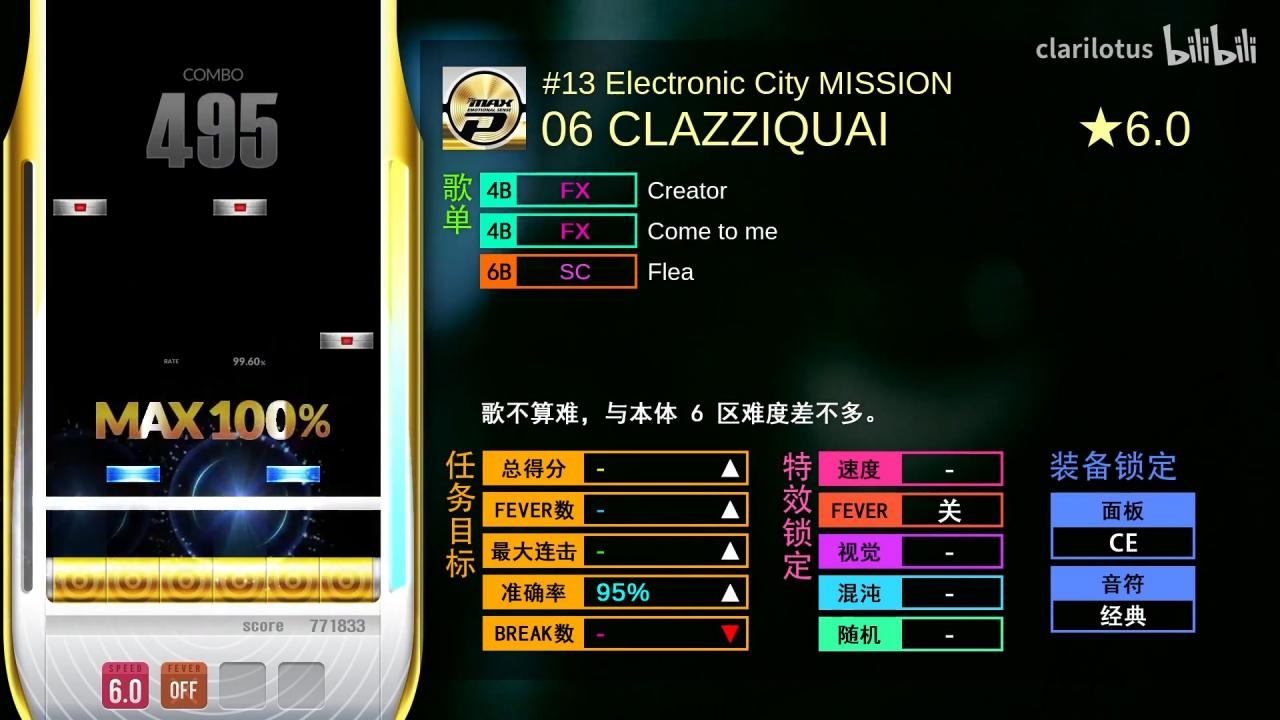note: (266, 465, 320, 483), (214, 198, 267, 216), (54, 199, 107, 216), (320, 333, 374, 349), (107, 466, 160, 482)
